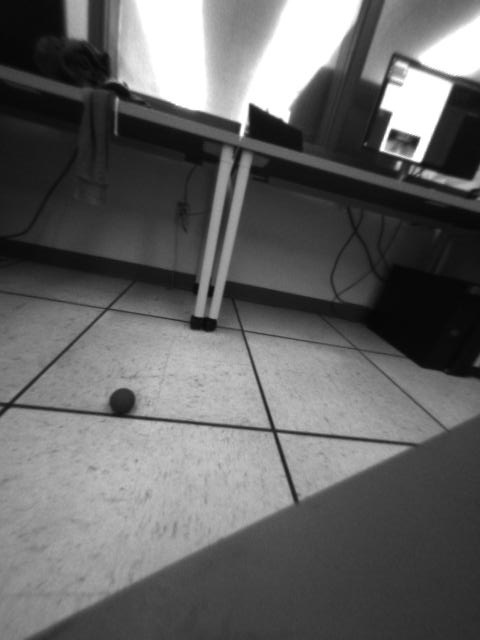dogtoy: (104, 380, 143, 419)
